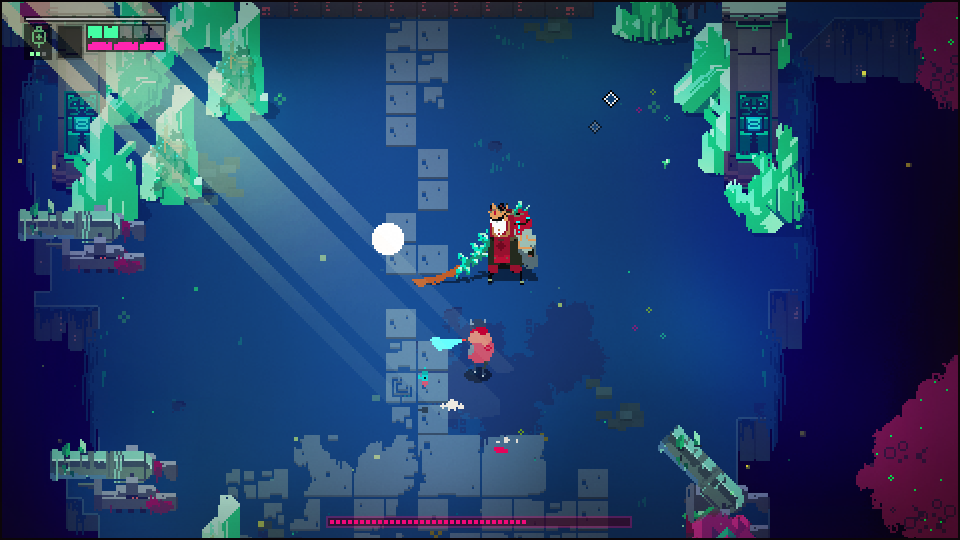hanged_man: (446, 195, 542, 284)
hanged_shot: (371, 219, 404, 258)
player: (430, 315, 499, 381)
